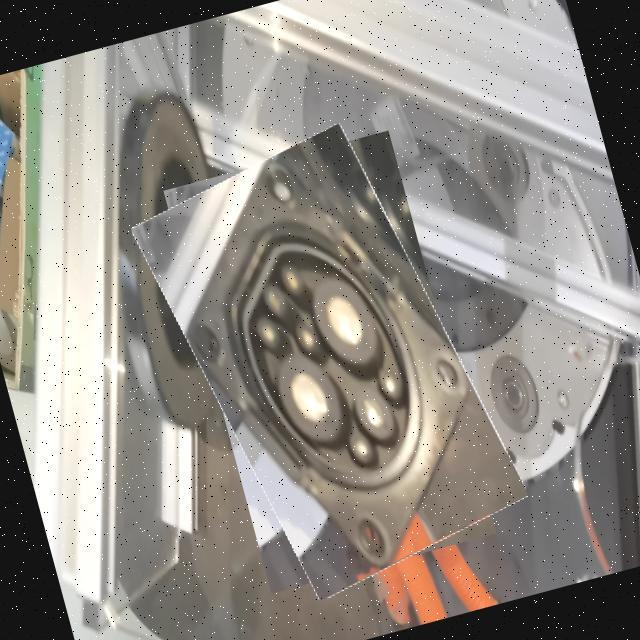GB-T: (216, 205, 481, 524)
